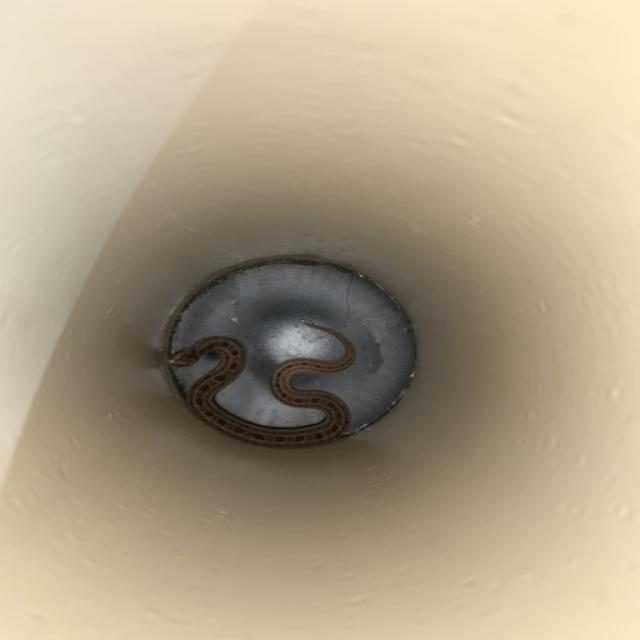snake: (157, 307, 381, 463)
